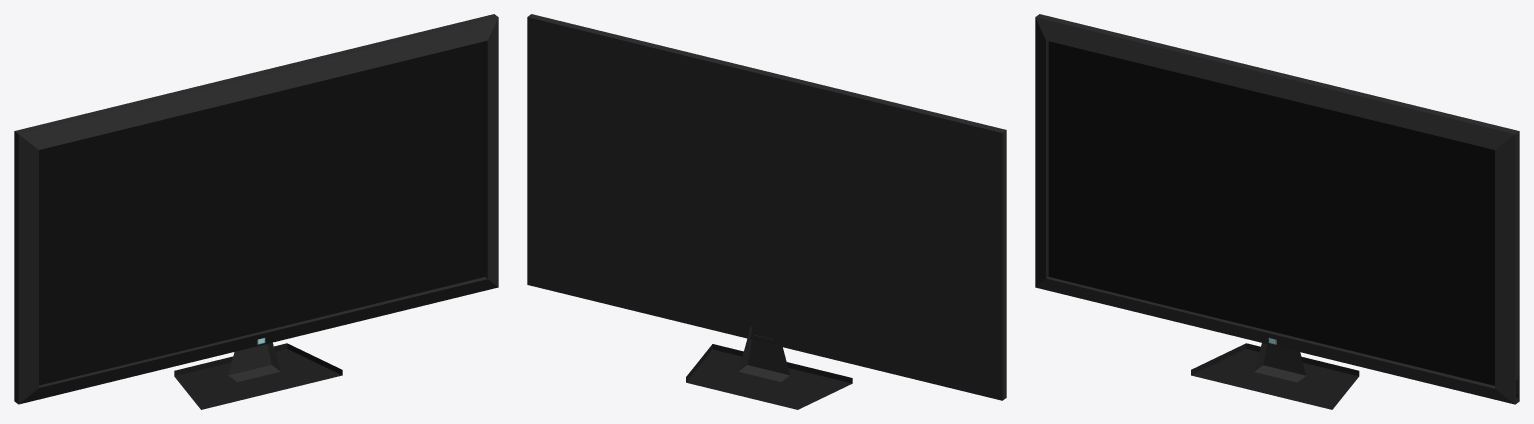
Rendered from led_tv_low_poly_free.glb.
The picture shows the model from 3 angles, left to right: view 1: azimuth 30°, elevation 25°; view 2: azimuth 150°, elevation 25°; view 3: azimuth 330°, elevation 25°; orthographic projection.
Visible parts, largest first — view 1: Cube; view 2: Cube; view 3: Cube.
Boxes of the visible parts, x1,y1,x2,y2 form: Cube: [14, 14, 498, 409]; Cube: [527, 14, 1006, 409]; Cube: [1035, 14, 1519, 409].
Bounding box in the file's own units: 2.19 × 1.34 × 0.3254.
Materials: 1 (1 with a texture image).
